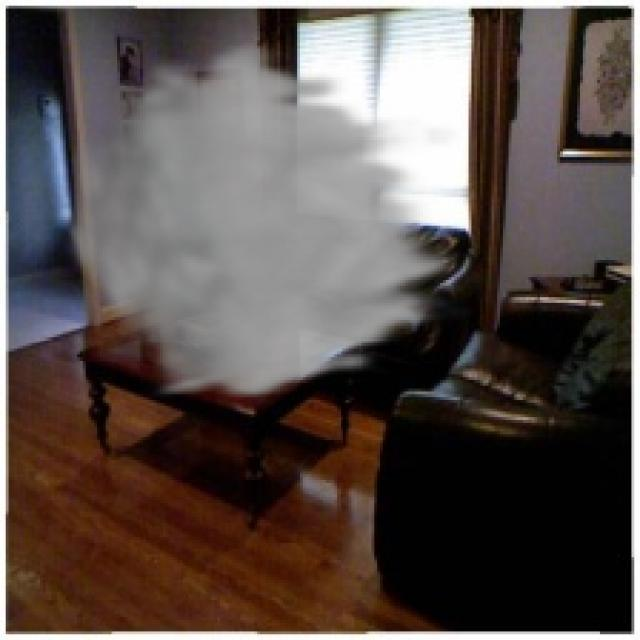Smoke: (57, 37, 472, 403)
